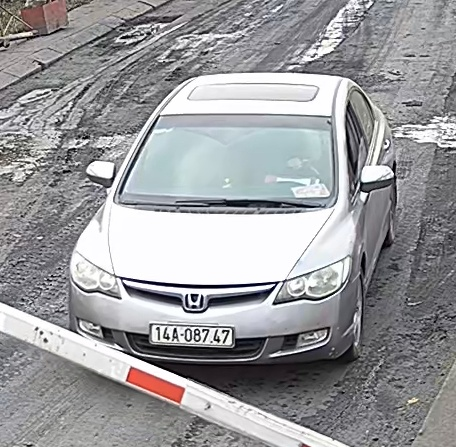vehicle plate: (145, 318, 235, 348)
